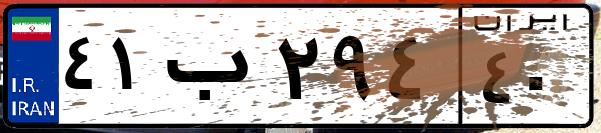0: (525, 38, 570, 115)
1: (110, 28, 158, 98)
2: (270, 28, 330, 110)
4: (385, 28, 445, 110), (57, 26, 110, 100), (475, 38, 525, 113)
9: (330, 28, 385, 110)
ب: (158, 20, 270, 120)
